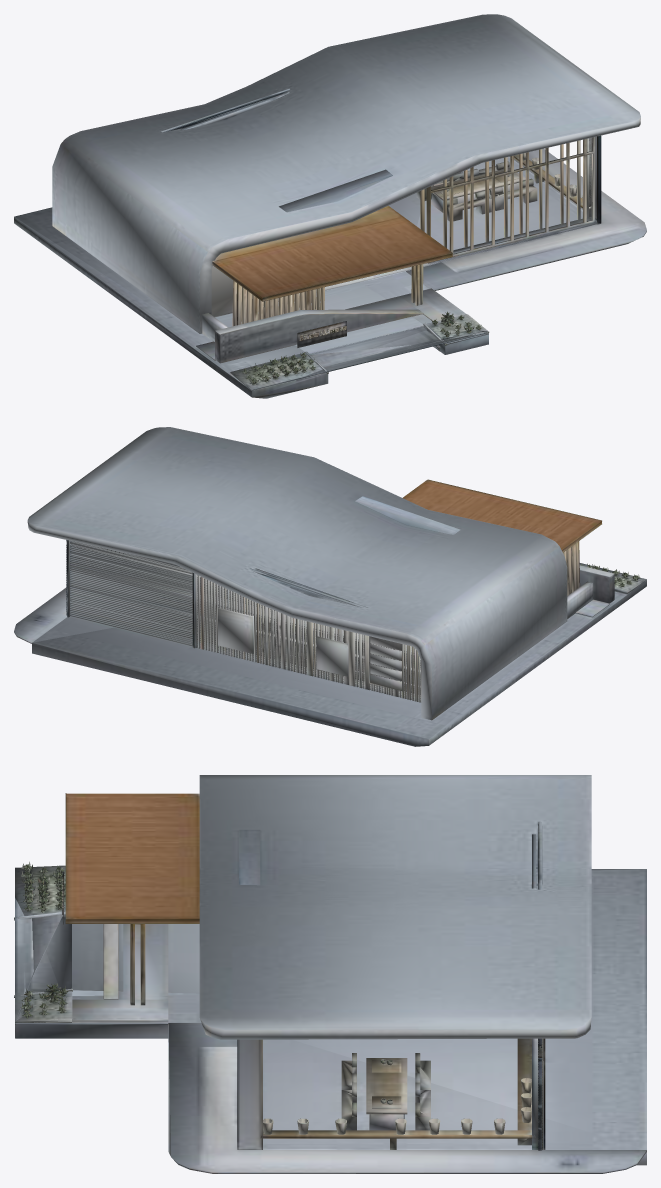
The model's file is mod_tower.glb.
The picture shows the model from 3 angles, top to bottom: view 1: azimuth 30°, elevation 25°; view 2: azimuth 150°, elevation 25°; view 3: azimuth 270°, elevation 25°; orthographic projection. The views are drawn at different scales.
Visible parts, largest first — view 1: tripo_node_8dbe3d21-a517-40b6-a273-c8ce7cd9eba0; view 2: tripo_node_8dbe3d21-a517-40b6-a273-c8ce7cd9eba0; view 3: tripo_node_8dbe3d21-a517-40b6-a273-c8ce7cd9eba0.
Boxes of the visible parts, bbox=[...] form: tripo_node_8dbe3d21-a517-40b6-a273-c8ce7cd9eba0: bbox=[14, 14, 646, 398]; tripo_node_8dbe3d21-a517-40b6-a273-c8ce7cd9eba0: bbox=[14, 427, 646, 746]; tripo_node_8dbe3d21-a517-40b6-a273-c8ce7cd9eba0: bbox=[14, 775, 646, 1173].
Bounding box in the file's own units: 0.999 × 0.2564 × 0.8823.
1 material, 1 textured.
